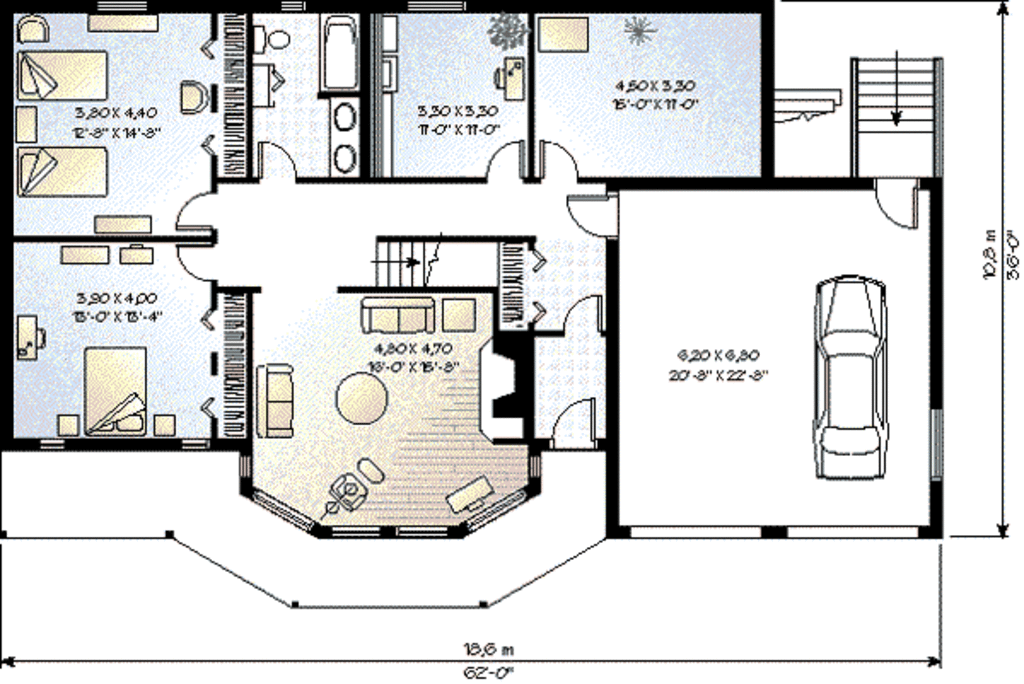bed: (83, 343, 148, 436), (16, 48, 116, 105), (14, 144, 111, 202)
door: (872, 175, 921, 230), (563, 194, 620, 240), (554, 397, 599, 448), (483, 137, 527, 182), (535, 138, 578, 182), (559, 294, 604, 335), (257, 136, 297, 181), (175, 241, 214, 286), (176, 188, 215, 233)
large_sink: (252, 18, 292, 59)
large_sofa: (356, 291, 440, 338), (254, 361, 296, 442)
small_sink: (326, 99, 361, 181)
stairs: (852, 50, 941, 176), (366, 236, 499, 288)
tub: (316, 9, 358, 94)
windows: (247, 482, 314, 536), (327, 523, 456, 541), (925, 406, 949, 487)
